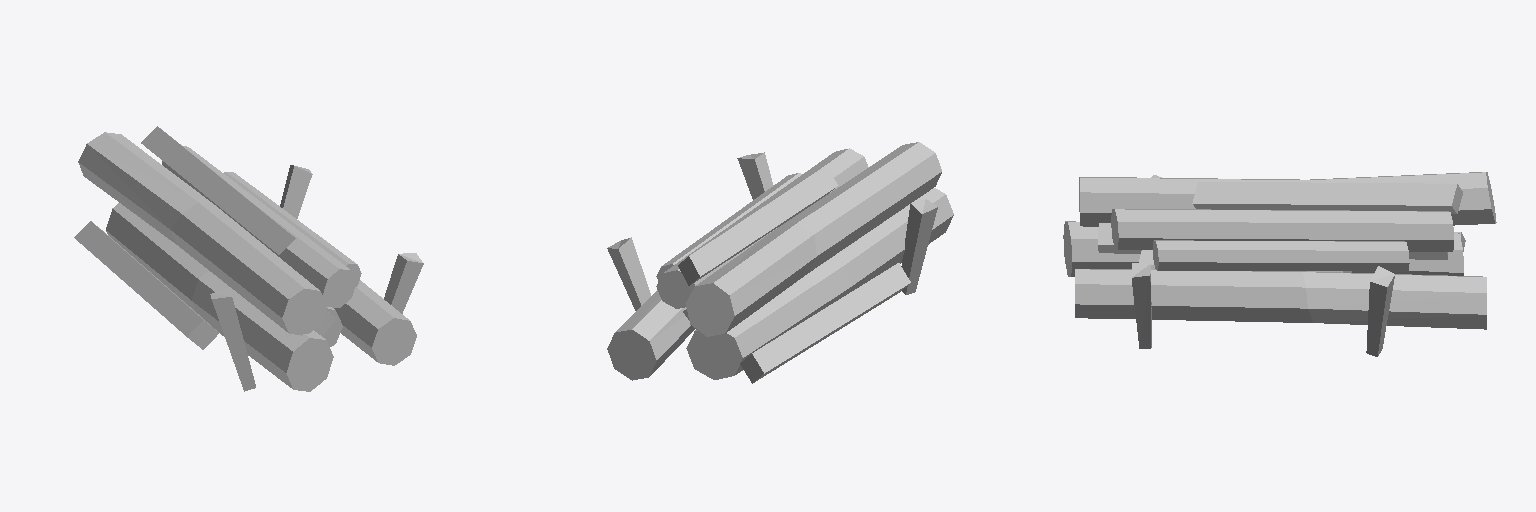
File: Woodpile_LOD01.obj
The picture shows the model from 3 angles: view 1: azimuth 30°, elevation 25°; view 2: azimuth 150°, elevation 25°; view 3: azimuth 270°, elevation 25°; orthographic projection.
Visible parts, largest first — view 1: Woodpile_LOD01; view 2: Woodpile_LOD01; view 3: Woodpile_LOD01.
Boxes of the visible parts, x1=… form: Woodpile_LOD01: x1=74, y1=126, x2=423, y2=391; Woodpile_LOD01: x1=607, y1=142, x2=953, y2=383; Woodpile_LOD01: x1=1063, y1=172, x2=1496, y2=356.
Bounding box in the file's own units: 0.7852 × 0.4714 × 1.37.